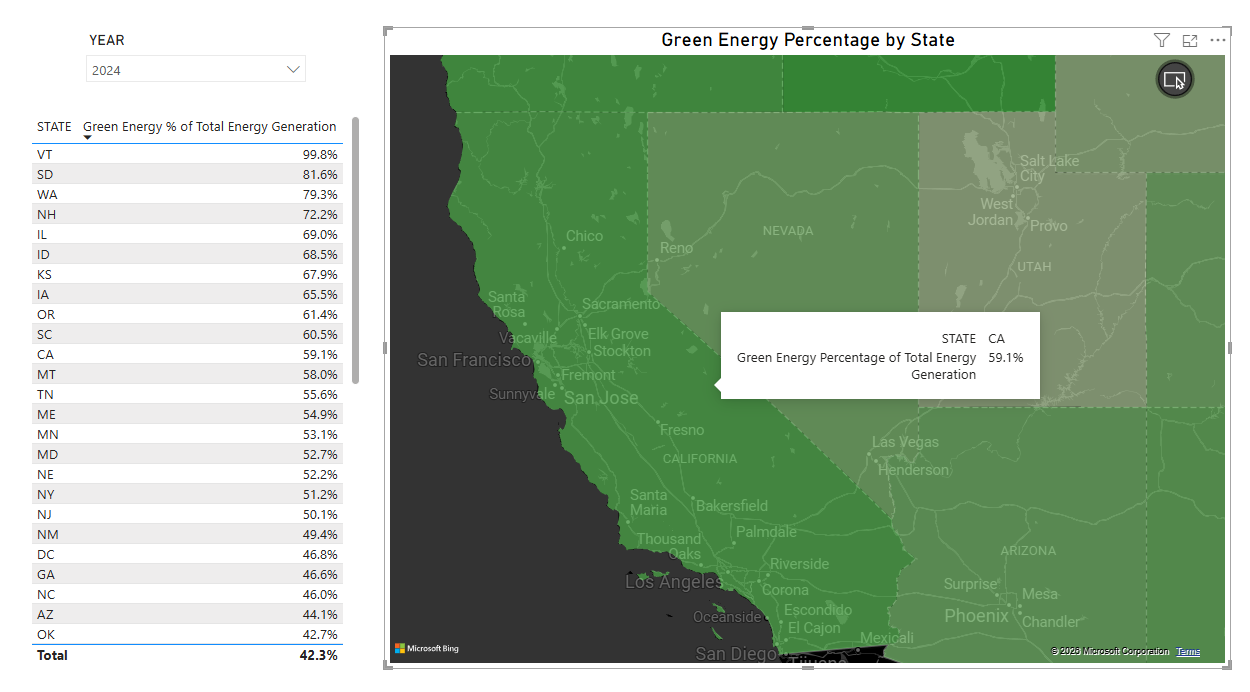

What the dashboard file says about the page in this screenshot:
{"tool":"powerbi","page":{"name":"Page 1","canvas":[1280,720],"ordinal":0},"visuals":[{"type":"slicer","fields":{"Values":["clean_state_green.YEAR"]},"box":[85.6,37.9,240.2,67.1],"z":0},{"type":"filledMap","title":"Green Energy Percentage by State","fields":{"Category":["clean_state_green.STATE"]},"box":[393.9,37.9,847.2,641.9],"z":1000},{"type":"tableEx","fields":{"Values":["clean_state_green.STATE","Avg(clean_state_green.GREEN_SHARE)"]},"box":[36,121.6,339.5,558.3],"z":2000}]}

Visuals, with their boxes in screenshot pixels (x1, y1, x2, y2), scaled from the page's 1280x720 canvas onto the 1250x692 screenshot:
slicer - clean_state_green.YEAR: <region>84, 36, 318, 101</region>
"Green Energy Percentage by State" filledMap: <region>385, 36, 1212, 653</region>
tableEx - clean_state_green.STATE x Avg(clean_state_green.GREEN_SHARE): <region>35, 117, 367, 653</region>
